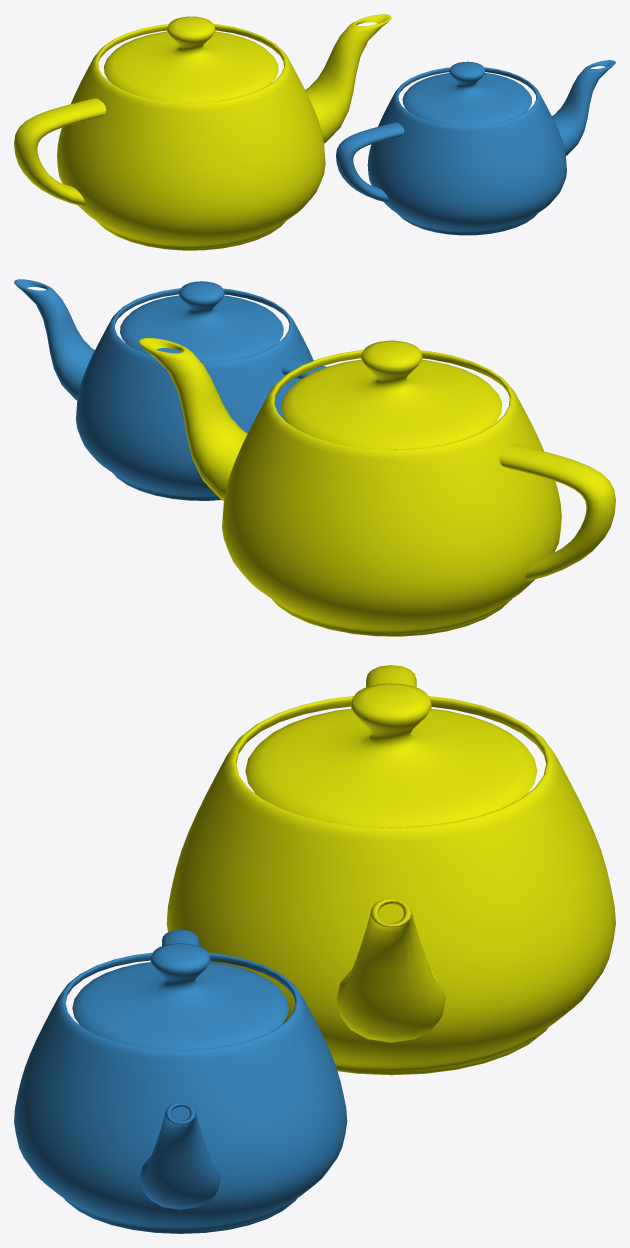
The model's file is bothHu.gltf.
The picture shows the model from 3 angles, top to bottom: view 1: azimuth 30°, elevation 25°; view 2: azimuth 150°, elevation 25°; view 3: azimuth 270°, elevation 25°; orthographic projection. The views are drawn at different scales.
Visible parts, largest first — view 1: Teapot001, Teapot002; view 2: Teapot001, Teapot002; view 3: Teapot001, Teapot002.
Boxes of the visible parts, x1=… form: Teapot001: x1=14, y1=14, x2=391, y2=250; Teapot002: x1=336, y1=60, x2=615, y2=235; Teapot001: x1=138, y1=338, x2=615, y2=636; Teapot002: x1=14, y1=279, x2=326, y2=500; Teapot001: x1=166, y1=665, x2=615, y2=1075; Teapot002: x1=14, y1=929, x2=347, y2=1233.
Size of the model in its own units: 100 by 34.27 by 58.31.
